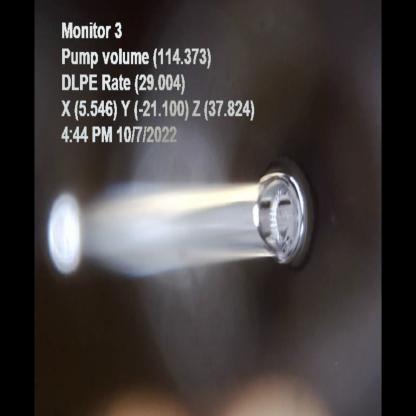Droplet: (256, 173, 310, 264)
